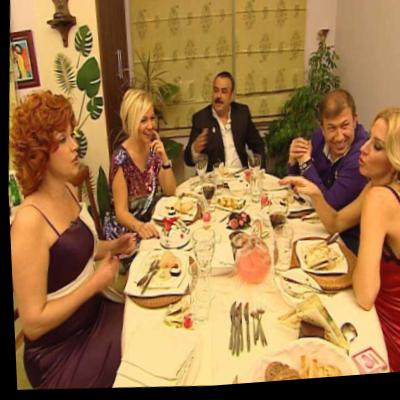happy: (320, 112, 354, 160), (130, 107, 155, 145)
surprise: (207, 81, 232, 115)
